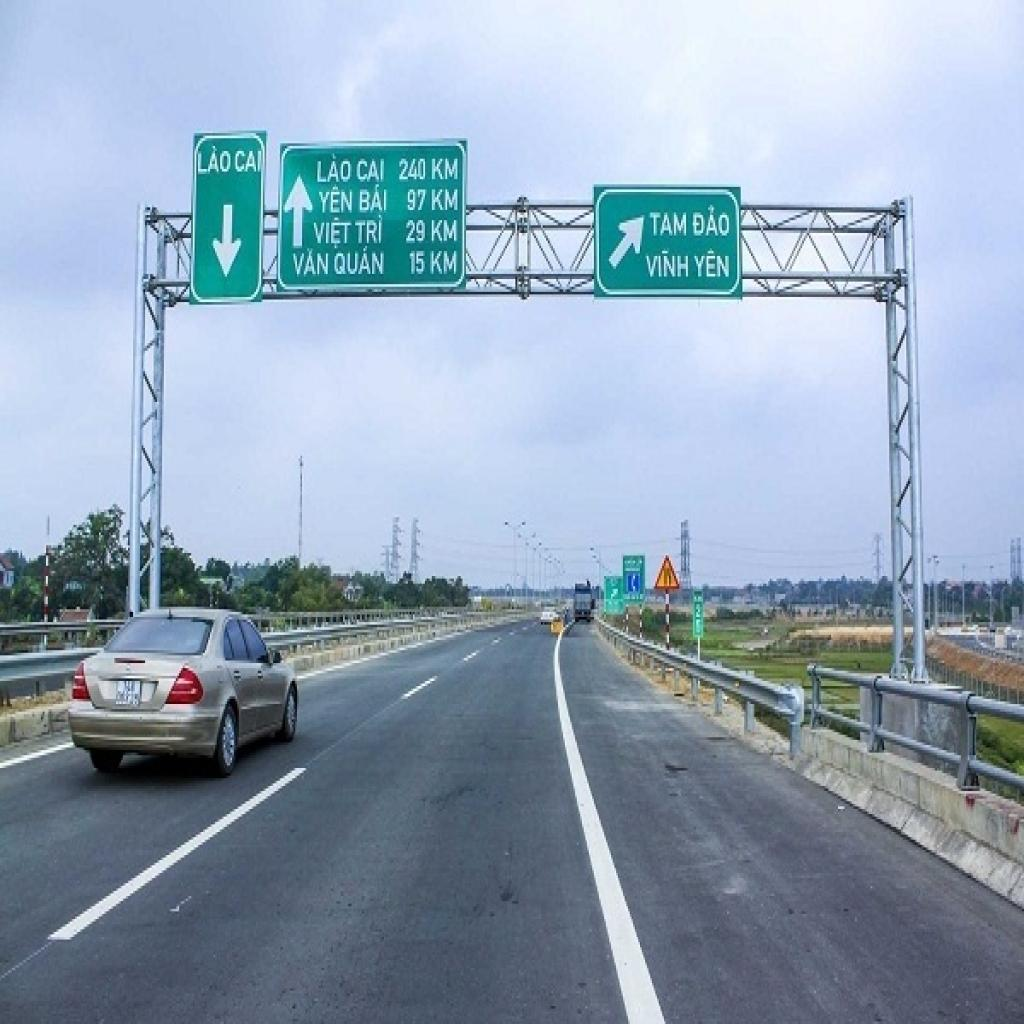text: (333, 243, 387, 279), (644, 246, 692, 282), (691, 243, 732, 284), (691, 202, 732, 241), (311, 218, 355, 254), (290, 248, 331, 282), (648, 210, 690, 241), (198, 144, 234, 180), (317, 184, 355, 218), (316, 153, 353, 187), (355, 215, 386, 248), (355, 156, 387, 187), (359, 182, 389, 215), (428, 248, 459, 279), (430, 156, 461, 184), (430, 187, 461, 215), (430, 218, 461, 246), (234, 148, 264, 176), (398, 156, 428, 184), (404, 218, 428, 248), (406, 187, 430, 215), (408, 248, 428, 279)
